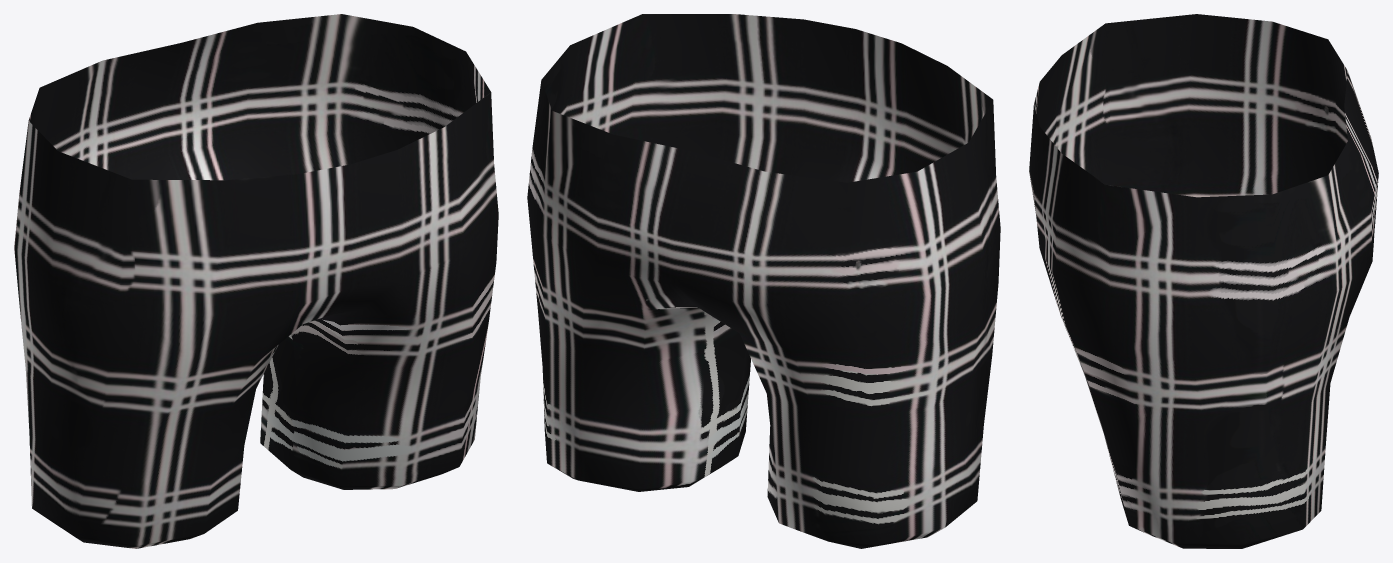
Rendered from AF_M_Trousers_15.fbx.
The picture shows the model from 3 angles, left to right: view 1: azimuth 30°, elevation 25°; view 2: azimuth 150°, elevation 25°; view 3: azimuth 270°, elevation 25°; orthographic projection. The views are drawn at different scales.
Visible parts, largest first — view 1: AF_M_Trousers_15; view 2: AF_M_Trousers_15; view 3: AF_M_Trousers_15.
Part boxes in pixels (x1,y1,x2,y2): AF_M_Trousers_15: (14, 14, 498, 548); AF_M_Trousers_15: (527, 14, 1000, 548); AF_M_Trousers_15: (1029, 14, 1378, 548).
Size of the model in its own units: 335 by 292 by 256.
